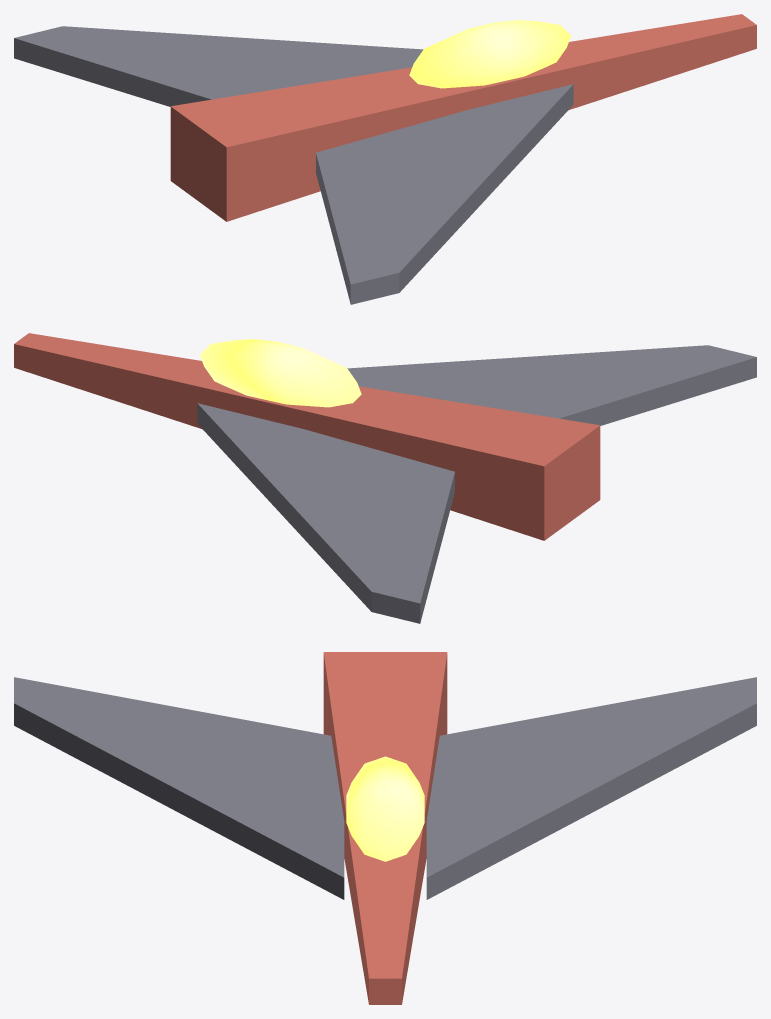
File: enemy_fighter.glb
3 renders of one model, top to bottom at view 1: azimuth 30°, elevation 25°; view 2: azimuth 150°, elevation 25°; view 3: azimuth 270°, elevation 25°, orthographic. The views are drawn at different scales.
Visible parts, largest first — view 1: enemy_fighter; view 2: enemy_fighter; view 3: enemy_fighter.
Boxes of the visible parts, x1,y1,x2,y2 form: enemy_fighter: (14, 14, 756, 304); enemy_fighter: (14, 333, 756, 623); enemy_fighter: (14, 652, 756, 1004).
Size of the model in its own units: 1.75 by 0.3 by 1.8.
